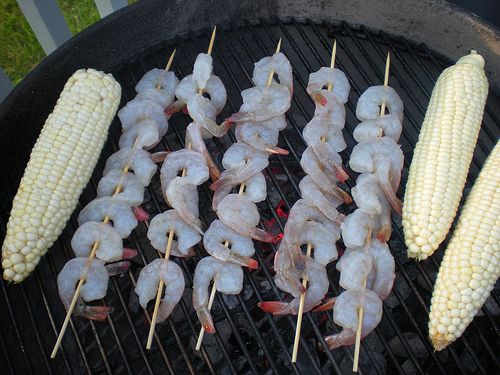corn: (0, 65, 124, 288), (401, 49, 489, 260)
